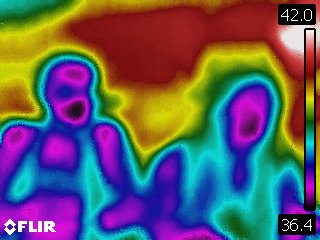human: (1, 48, 161, 213), (169, 42, 295, 215)
